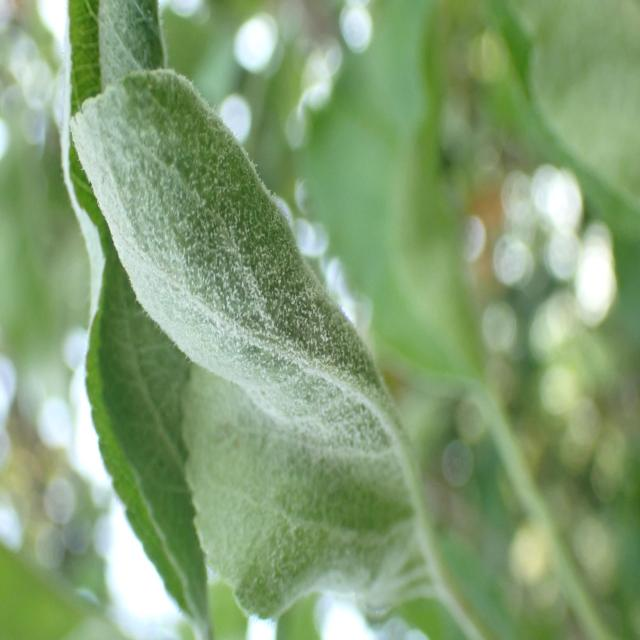Powdery_mildew: (68, 74, 456, 640)
